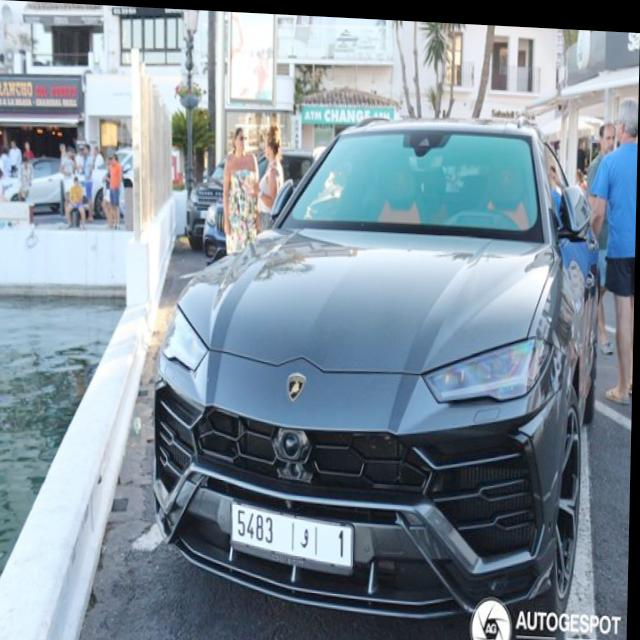License-Plate: (234, 503, 353, 563)
